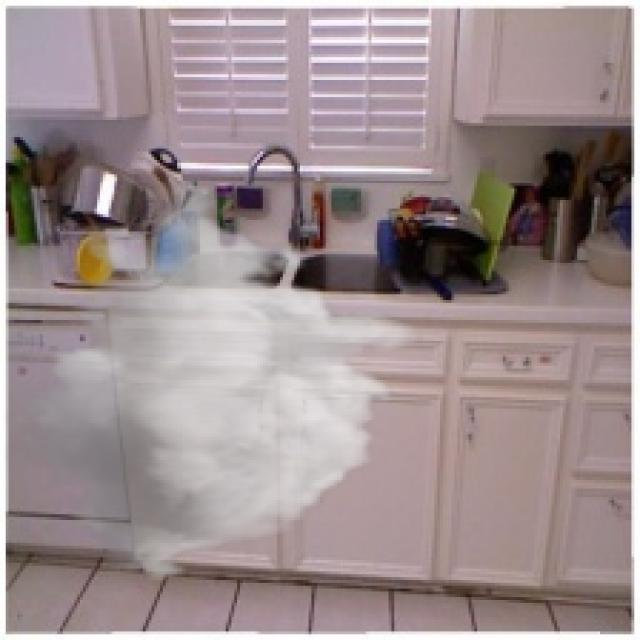Smoke: (3, 183, 423, 586)
